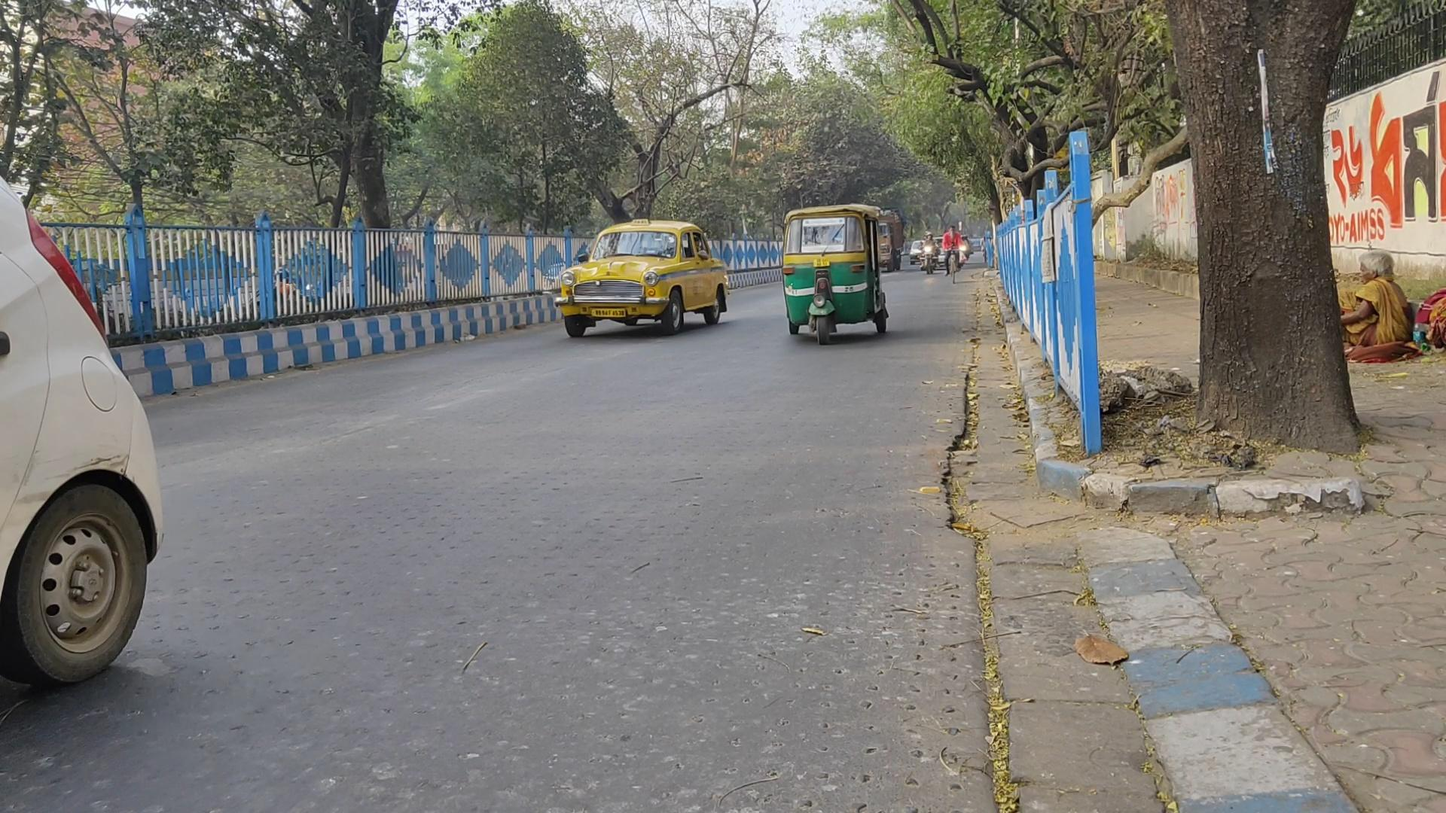Auto: (781, 203, 892, 344)
bike: (941, 225, 964, 285), (919, 231, 941, 276)
car: (556, 218, 728, 337)
